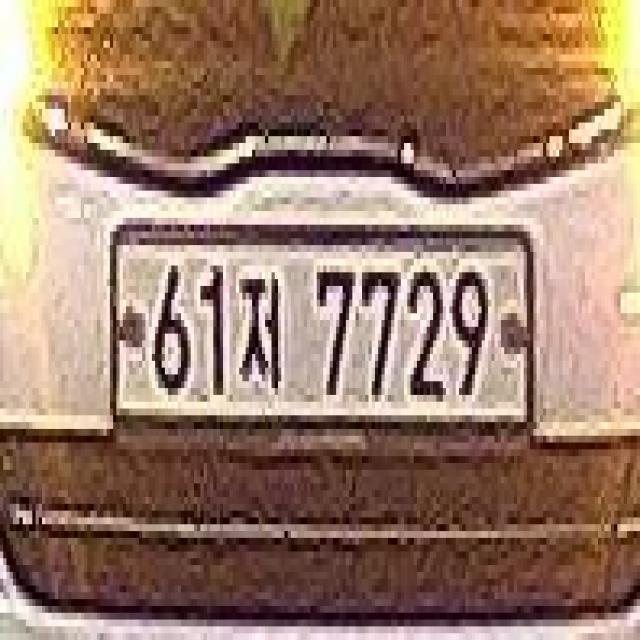1: (194, 259, 230, 402)
2: (406, 258, 445, 403)
6: (150, 257, 192, 405)
7: (313, 257, 358, 404), (360, 260, 400, 402)
9: (449, 258, 489, 400)
jeo: (236, 262, 283, 398)
license_plate: (100, 203, 543, 462)
